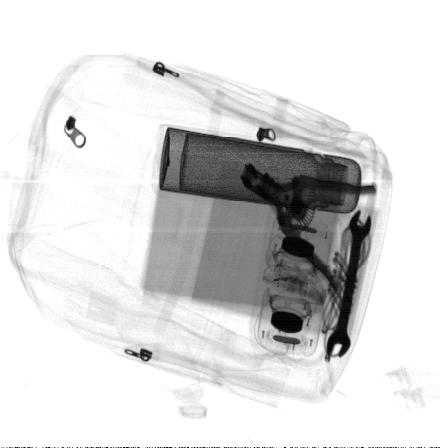Pliers: (239, 159, 378, 290)
Wrench: (326, 209, 372, 360)
